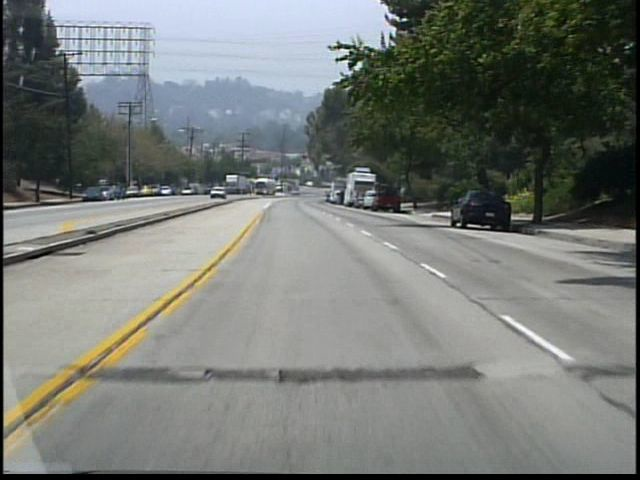person: (394, 183, 406, 209)
